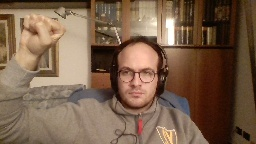Pugno: (17, 12, 69, 56)
